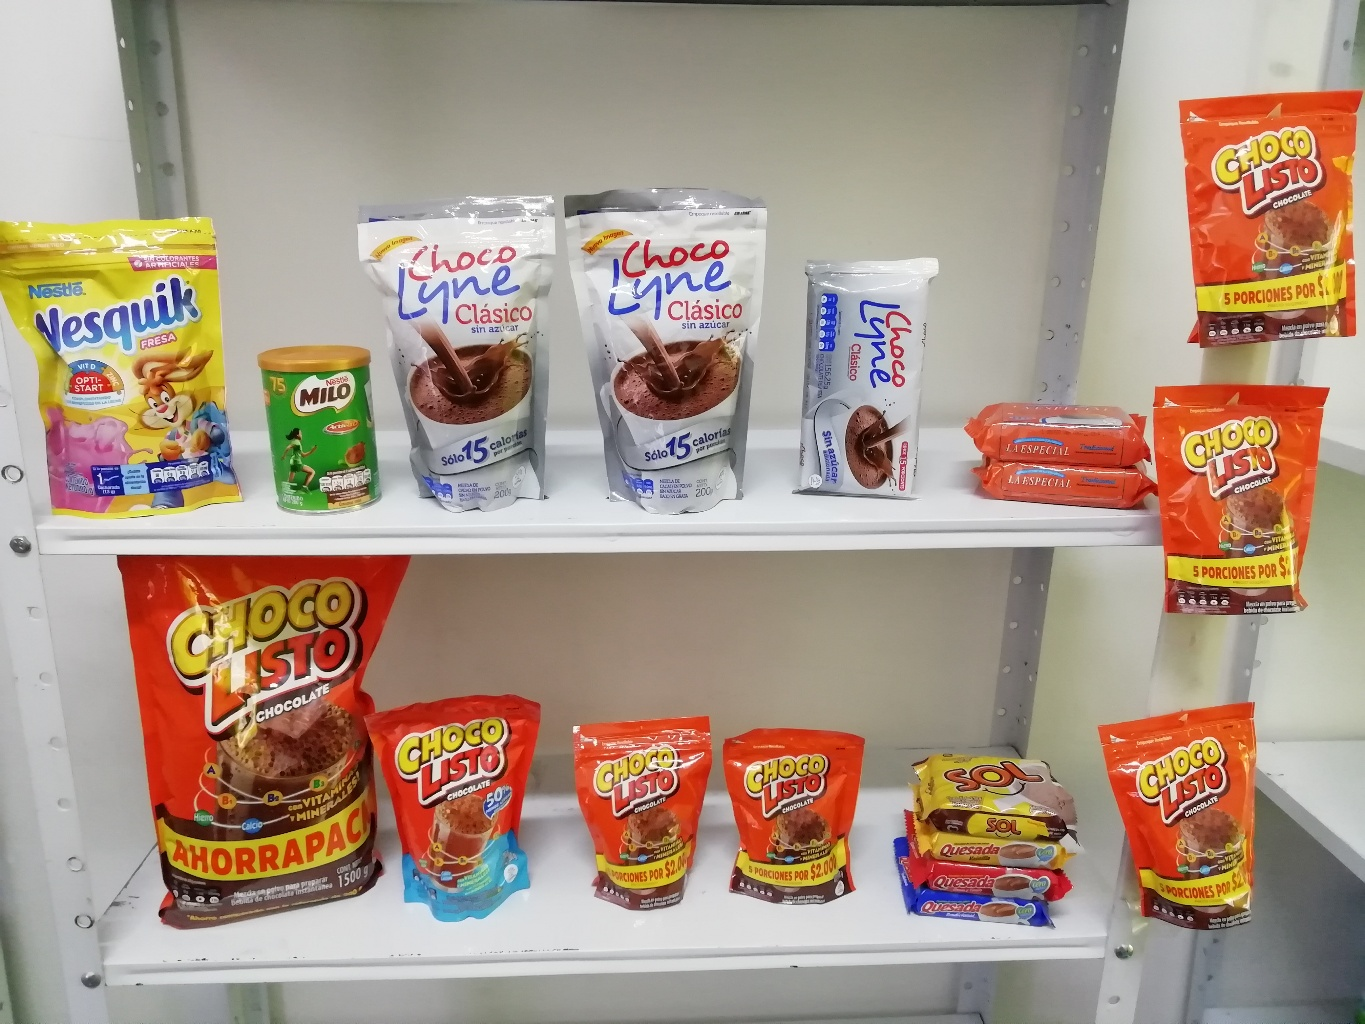COL0170203LAT20000: (248, 327, 396, 529)
